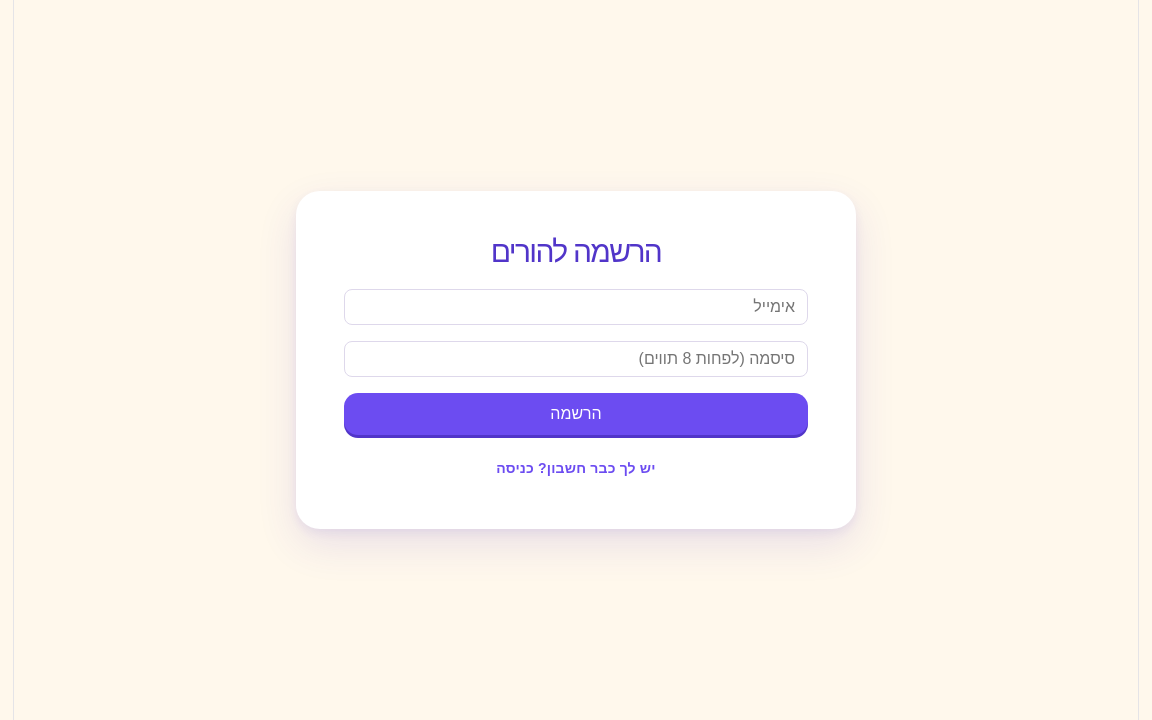
Test case: App register flow › a successful registration navigates to /login, not straight into the app
This screenshot has width=1152, height=720.
Type "parent@example.com" into the field labelled "אימייל" at coordinates (576, 307), box [344,289,808,325]
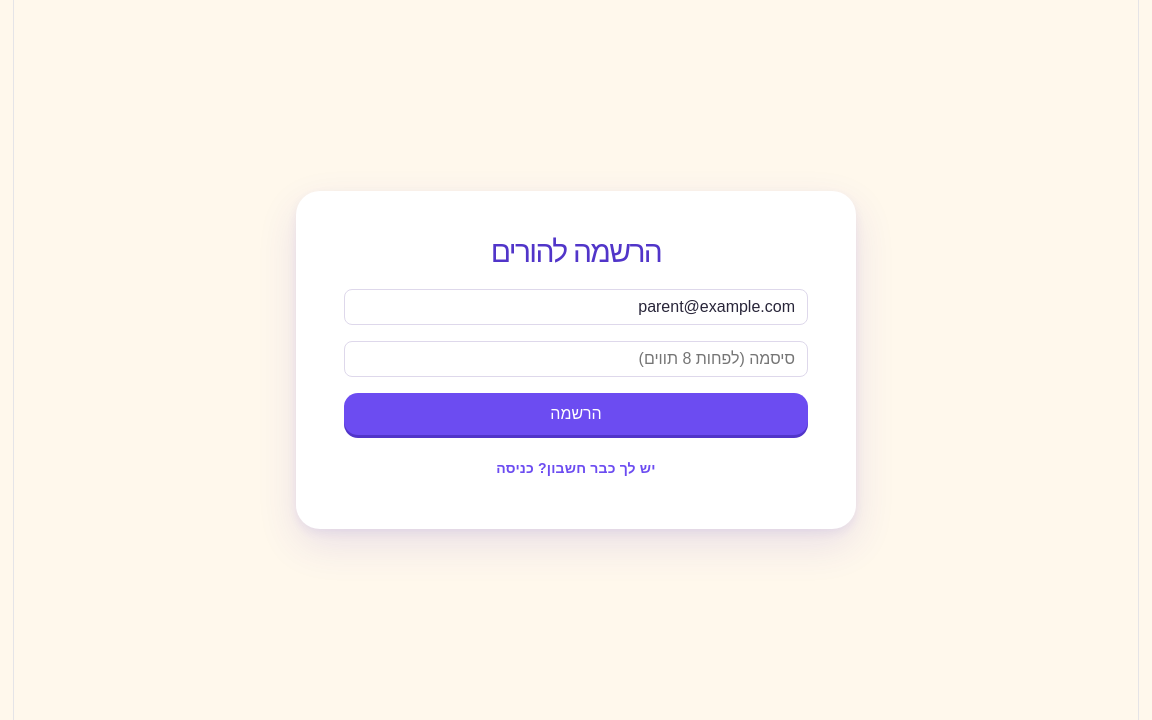
Type "correct-horse" into the password field labelled "סיסמה" at coordinates (576, 359), box [344,341,808,377]
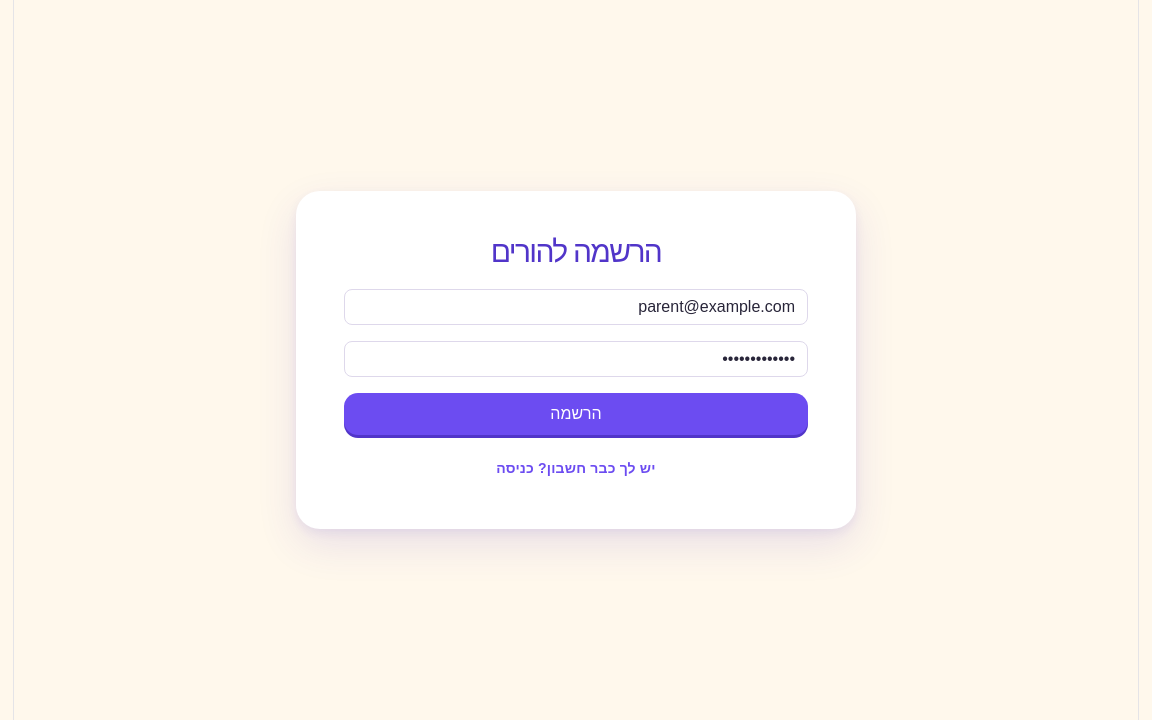
Click the button "הרשמה" at coordinates (576, 414), box [344,393,808,435]
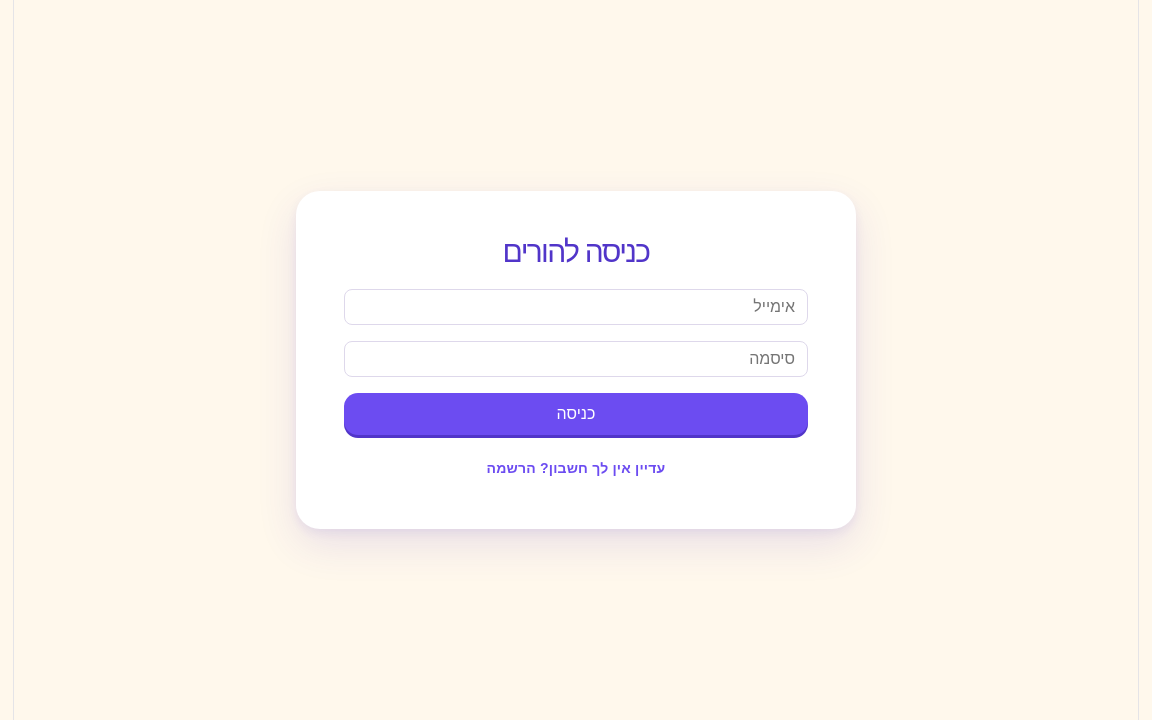
expect the heading "כניסה להורים" is shown: met, box [503,235,650,268]
